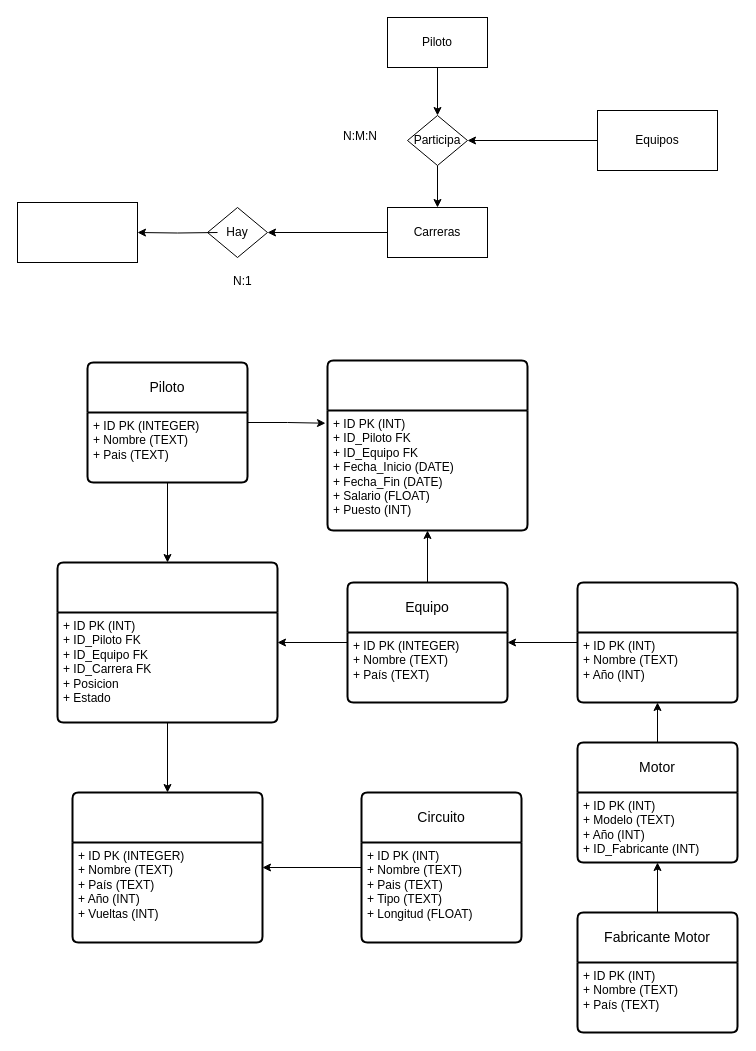
Image size: 756x1051. Some labels were removed from this diagram. The box of each missing label's shape, as (x1, y1, x2, y2) in pixels:
Carrera: (71, 791, 263, 943)
Coche: (576, 581, 738, 703)
Contrato: (326, 359, 528, 531)
Resultado: (56, 561, 278, 723)
Resultados: (16, 202, 138, 262)
